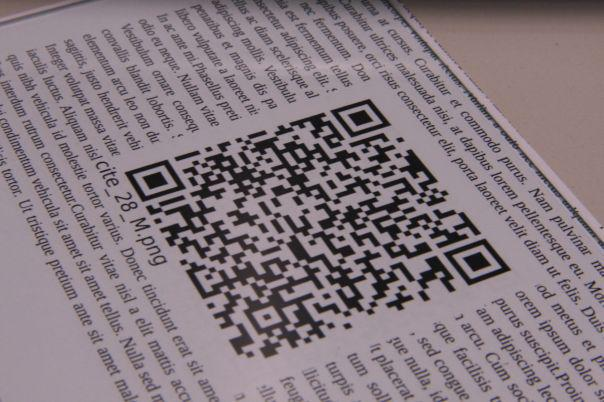Finder pattern: (445, 236, 514, 290), (121, 157, 190, 205), (330, 97, 395, 142)
